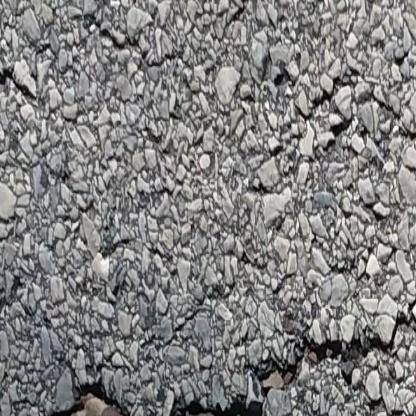Cracks: (0, 309, 416, 416), (354, 395, 416, 416), (0, 60, 35, 89)
